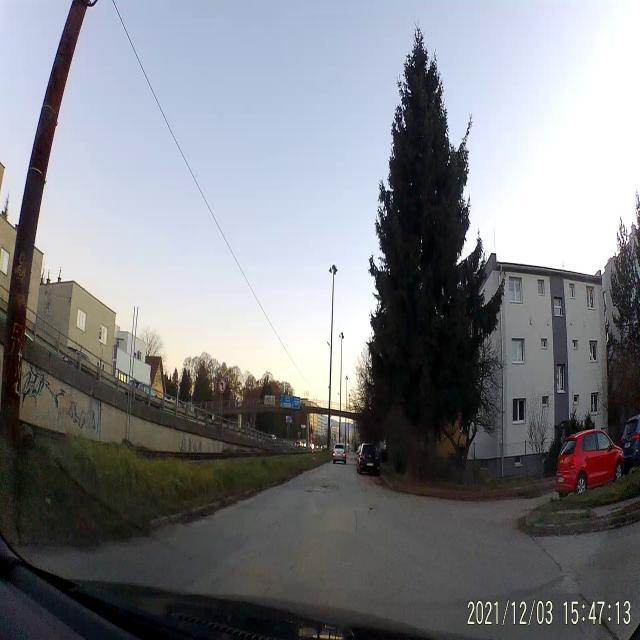Pothole: (285, 566, 295, 578), (318, 482, 328, 490), (304, 487, 313, 495), (366, 504, 374, 513)
